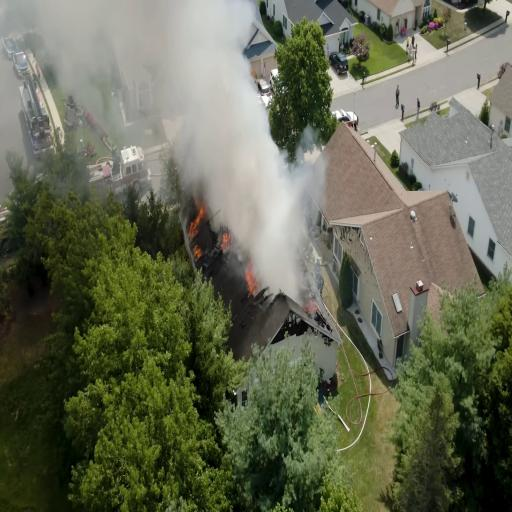smoke: (193, 61, 265, 217), (161, 0, 229, 139), (259, 152, 290, 262)
